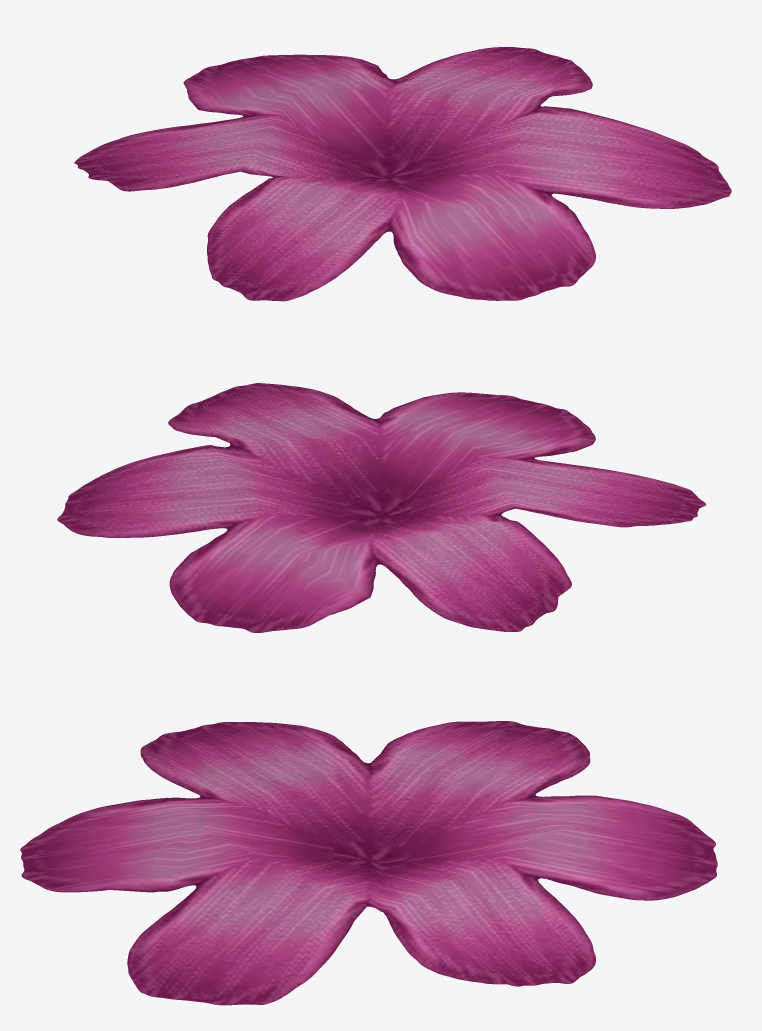
The model's file is pm-flower-03.glb.
3 views of the same model, one above another, from view 1: azimuth 30°, elevation 25°; view 2: azimuth 150°, elevation 25°; view 3: azimuth 270°, elevation 25° (orthographic). The views are drawn at different scales.
Visible parts, largest first — view 1: Flower03; view 2: Flower03; view 3: Flower03.
Part boxes in pixels (bbox=[...]): Flower03: bbox=[74, 47, 731, 301]; Flower03: bbox=[57, 383, 705, 632]; Flower03: bbox=[20, 721, 717, 1005].
Bounding box in the file's own units: 0.6029 × 0.0375 × 0.6029.
Materials: 1 (1 with a texture image).
